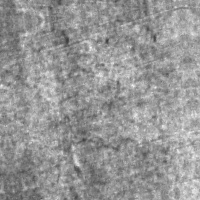crazing: (49, 22, 132, 159)
